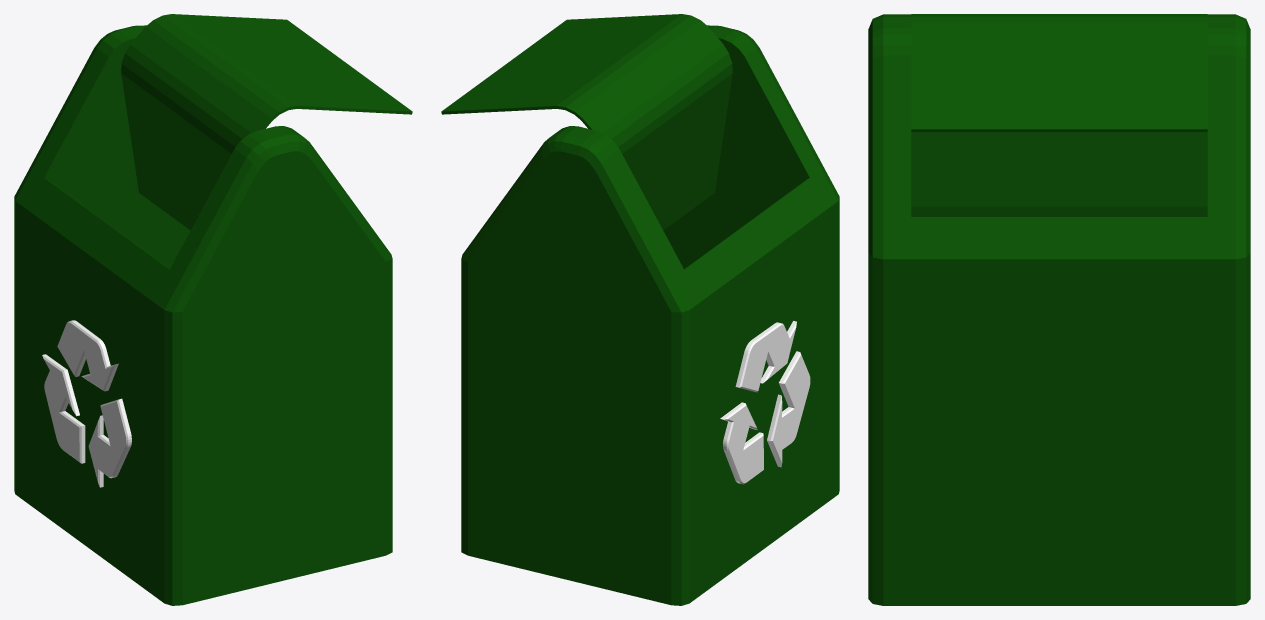
The model's file is RecycleBin.fbx.
3 views of the same model, side by side, from view 1: azimuth 30°, elevation 25°; view 2: azimuth 150°, elevation 25°; view 3: azimuth 270°, elevation 25° (orthographic). The views are drawn at different scales.
Visible parts, largest first — view 1: Cube, Cube.001, Plane.002, Plane.001, Plane; view 2: Cube, Cube.001, Plane.001, Plane, Plane.002; view 3: Cube, Cube.001.
Part boxes in pixels (x1=…): Cube: x1=14, y1=25, x2=392, y2=605; Cube.001: x1=121, y1=14, x2=412, y2=230; Plane.002: x1=42, y1=354, x2=85, y2=463; Plane.001: x1=88, y1=398, x2=131, y2=487; Plane: x1=57, y1=320, x2=118, y2=391; Cube: x1=461, y1=25, x2=839, y2=605; Cube.001: x1=441, y1=14, x2=732, y2=230; Plane.001: x1=767, y1=351, x2=810, y2=467; Plane: x1=735, y1=321, x2=796, y2=392; Plane.002: x1=720, y1=402, x2=763, y2=484; Cube: x1=868, y1=14, x2=1250, y2=605; Cube.001: x1=911, y1=14, x2=1207, y2=206.
Bounding box in the file's own units: 189 × 310 × 200.
